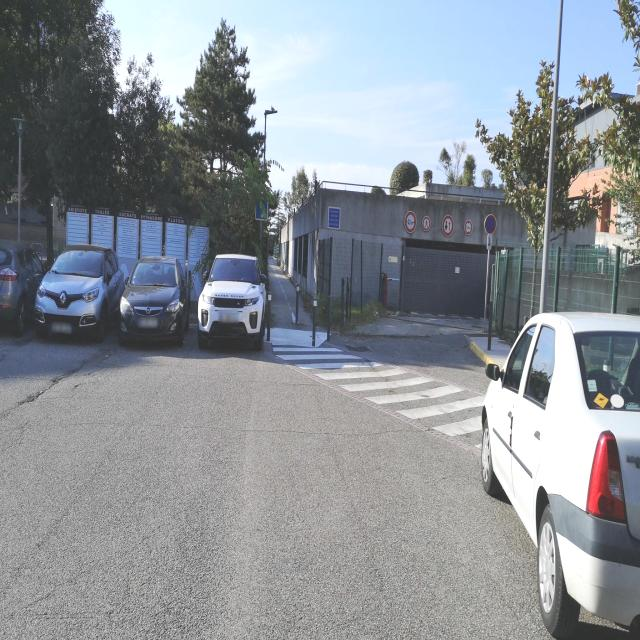car: (480, 308, 640, 638), (34, 243, 126, 342), (197, 251, 267, 351), (119, 254, 191, 346), (0, 240, 46, 337)
